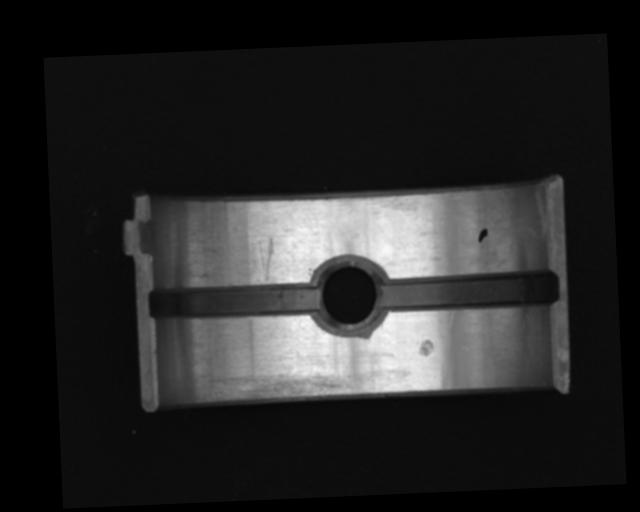blot: (476, 228, 489, 243)
bruise: (418, 338, 435, 357)
gap: (376, 270, 559, 314), (147, 281, 317, 322)
hole: (308, 253, 387, 338)
nick: (256, 234, 277, 285)
scratch: (200, 369, 363, 405)
